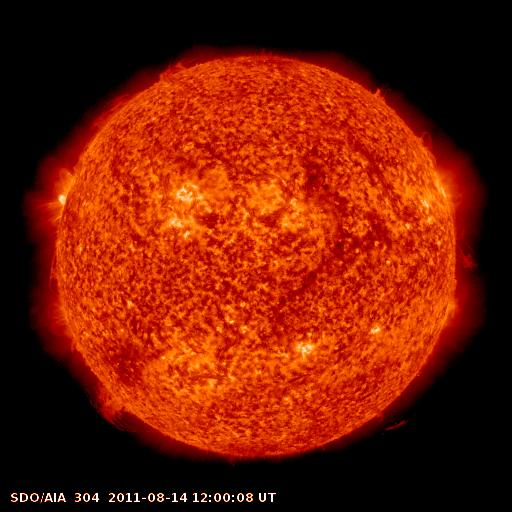prominence: (84, 373, 164, 440), (88, 86, 146, 131), (448, 230, 487, 286), (362, 398, 409, 437), (41, 236, 70, 291), (150, 52, 201, 82), (410, 121, 442, 164), (362, 76, 394, 112)
